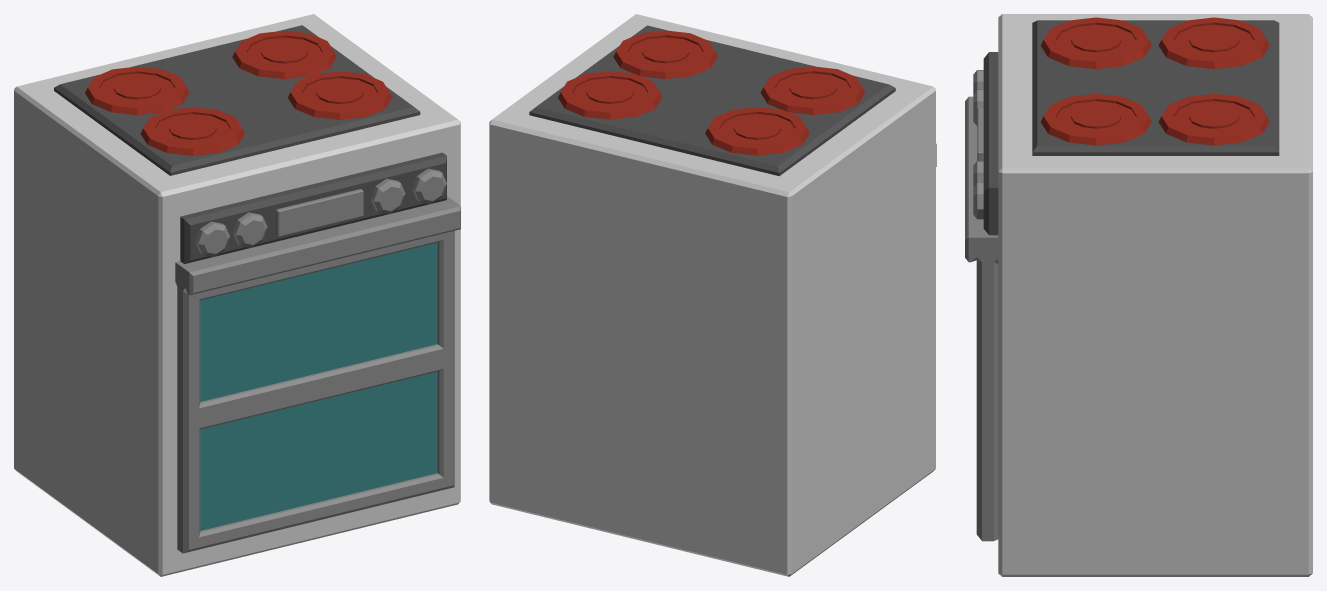
File: Oven.glb
The picture shows the model from 3 angles, left to right: view 1: azimuth 30°, elevation 25°; view 2: azimuth 150°, elevation 25°; view 3: azimuth 270°, elevation 25°; orthographic projection. The views are drawn at different scales.
Parts seen in each view (by area): view 1: Oven, Oven.001; view 2: Oven; view 3: Oven, Oven.001.
Boxes of the visible parts, left/top/right/bottom form: Oven: left=14, top=14, right=460, bottom=576; Oven.001: left=175, top=196, right=460, bottom=553; Oven: left=489, top=14, right=935, bottom=576; Oven: left=973, top=14, right=1312, bottom=576; Oven.001: left=965, top=96, right=998, bottom=541.
Bounding box in the file's own units: 0.7194 × 0.9041 × 0.6741.
